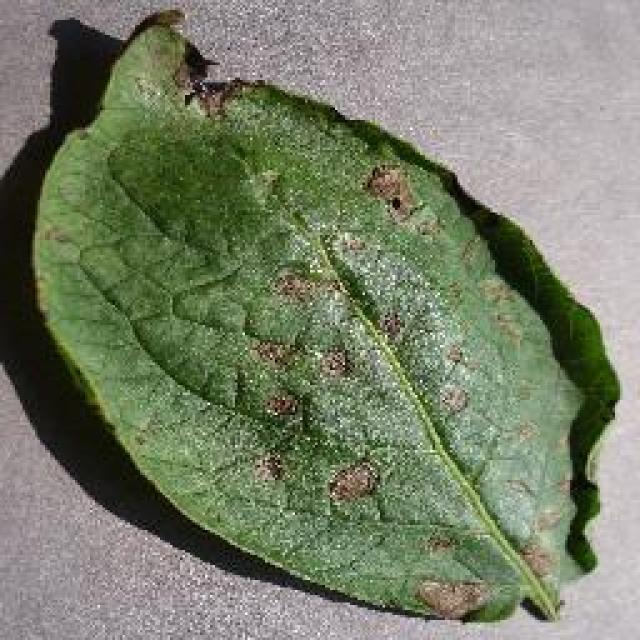early_blight: (25, 5, 623, 627)
